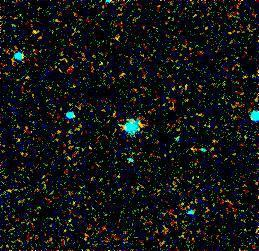star: (21, 17, 51, 47)
